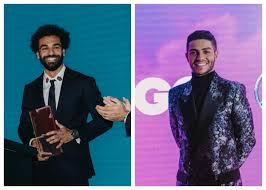middle_eastern_male: (36, 30, 69, 73), (189, 33, 220, 76)
